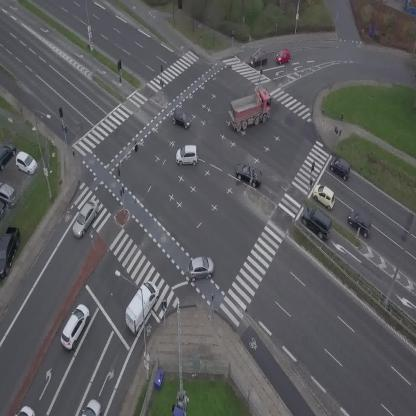car: (55, 301, 95, 351), (296, 203, 338, 242), (67, 198, 103, 240), (343, 206, 378, 240), (308, 180, 341, 212), (232, 159, 267, 189), (185, 254, 217, 282), (326, 154, 355, 181), (170, 109, 193, 130), (176, 145, 198, 165), (248, 50, 269, 67), (273, 47, 292, 65), (82, 399, 101, 416), (15, 406, 35, 416)
lorry: (117, 278, 164, 335), (224, 87, 278, 133)
